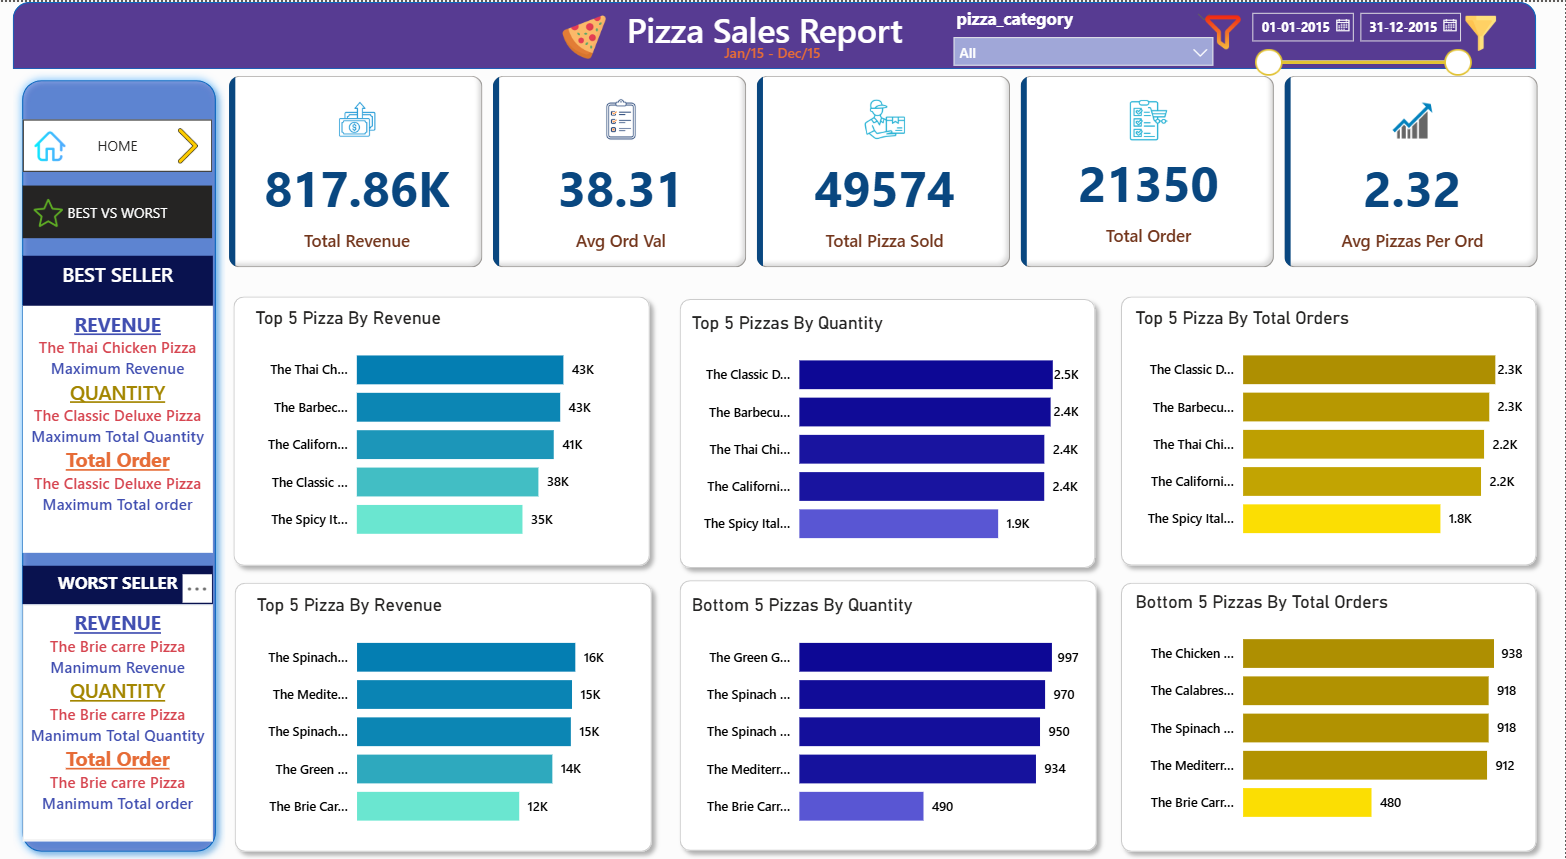

The page's visual inventory and layout, read from the dashboard file:
{"tool":"powerbi","page":{"name":"BEST VS WORST","canvas":[1500,820],"ordinal":1},"visuals":[{"type":"shape","box":[18,0,1455.1,64.4],"z":0},{"type":"textbox","box":[599.6,0,297.1,60],"z":1000},{"type":"image","box":[527.3,6.8,72.2,53.1],"z":2000},{"type":"textbox","box":[692.2,34.1,114.5,31.3],"z":3000},{"type":"shape","box":[17.7,65.4,203,754.9],"z":4000},{"type":"cardVisual","fields":{"Data":["pizza_sales.Total Revenue","pizza_sales.Avg Ord Val","pizza_sales.Total Pizza Sold","pizza_sales.Total Order","pizza_sales.Avg Pizzas Per Ord"]},"box":[219.4,65.4,1263.2,193.5],"z":5000},{"type":"textbox","box":[27.3,242.6,181.2,49.1],"z":6000},{"type":"textbox","box":[27.3,290.2,181.2,235.7],"z":7000},{"type":"textbox","box":[27.3,538.2,181.2,36.8],"z":8000},{"type":"textbox","box":[27.3,575,181.2,226.2],"z":9000},{"type":"shape","box":[219.4,272.5,415.6,275.3],"z":10000},{"type":"slicer","fields":{"Values":["pizza_sales.pizza_category"]},"box":[906.2,0,268.4,64],"z":11000},{"type":"slicer","fields":{"Values":["pizza_sales.order_date"]},"box":[1189.6,0,230.3,74.9],"z":12000},{"type":"barChart","title":"Top 5 Pizza By Revenue","fields":{"Category":["pizza_sales.pizza_name"],"Y":["pizza_sales.Total Revenue"]},"box":[245.3,291.6,354.3,237.1],"z":13000},{"type":"shape","box":[646.4,275,414.9,275],"z":14000},{"type":"shape","box":[1067.8,271.8,414.9,275],"z":15000},{"type":"shape","box":[220.3,545.1,416.5,275],"z":16000},{"type":"shape","box":[646.4,543.5,416.5,276.6],"z":17000},{"type":"shape","box":[1067.8,545.1,414.9,275],"z":18000},{"type":"barChart","title":"Top 5 Pizza By Revenue","fields":{"Category":["pizza_sales.pizza_name"],"Y":["pizza_sales.Total Revenue"]},"box":[246,566,353.8,236.4],"z":19000},{"type":"barChart","title":"Top 5 Pizzas By Quantity","fields":{"Category":["pizza_sales.pizza_name"],"Y":["Sum(pizza_sales.quantity)"]},"box":[660.9,295.9,379.5,236.4],"z":20000},{"type":"barChart","title":"Bottom 5 Pizzas By Quantity","fields":{"Category":["pizza_sales.pizza_name"],"Y":["Sum(pizza_sales.quantity)"]},"box":[660.9,566,379.5,236.4],"z":21000},{"type":"barChart","title":"Top 5 Pizza By Total Orders","fields":{"Category":["pizza_sales.pizza_name"],"Y":["pizza_sales.Total Order"]},"box":[1085.4,291.1,379.5,236.4],"z":22000},{"type":"barChart","title":"Bottom 5 Pizzas By Total Orders","fields":{"Category":["pizza_sales.pizza_name"],"Y":["pizza_sales.Total Order"]},"box":[1085.4,562.8,379.5,236.4],"z":23000},{"type":"pageNavigator","box":[27.3,175.8,181.2,50.4],"z":24000},{"type":"pageNavigator","box":[27.3,111.7,181.2,50.4],"z":24001},{"type":"image","box":[27.3,118.6,51.8,39.5],"z":24002},{"type":"image","box":[1392.6,8.2,55.9,43.6],"z":24003},{"type":"image","box":[1129.6,0,88.6,57.2],"z":24004},{"type":"image","box":[160.8,115.8,47.7,43.6],"z":24005},{"type":"image","box":[27.3,182.6,49.1,38.2],"z":24006}]}

Visuals, with their boxes in screenshot pixels (x1, y1, x2, y2), scaled from the page's 1500x820 canvas onto the 1566x859 screenshot:
shape: {"left": 19, "top": 0, "right": 1538, "bottom": 67}
textbox: {"left": 626, "top": 0, "right": 936, "bottom": 63}
image: {"left": 551, "top": 7, "right": 626, "bottom": 63}
textbox: {"left": 723, "top": 36, "right": 842, "bottom": 69}
shape: {"left": 18, "top": 69, "right": 230, "bottom": 858}
cardVisual - pizza_sales.Total Revenue x pizza_sales.Avg Ord Val: {"left": 229, "top": 69, "right": 1548, "bottom": 271}
textbox: {"left": 29, "top": 254, "right": 218, "bottom": 306}
textbox: {"left": 29, "top": 304, "right": 218, "bottom": 551}
textbox: {"left": 29, "top": 564, "right": 218, "bottom": 602}
textbox: {"left": 29, "top": 602, "right": 218, "bottom": 839}
shape: {"left": 229, "top": 285, "right": 663, "bottom": 574}
slicer - pizza_sales.pizza_category: {"left": 946, "top": 0, "right": 1226, "bottom": 67}
slicer - pizza_sales.order_date: {"left": 1242, "top": 0, "right": 1482, "bottom": 78}
"Top 5 Pizza By Revenue" barChart: {"left": 256, "top": 305, "right": 626, "bottom": 554}
shape: {"left": 675, "top": 288, "right": 1108, "bottom": 576}
shape: {"left": 1115, "top": 285, "right": 1548, "bottom": 573}
shape: {"left": 230, "top": 571, "right": 665, "bottom": 858}
shape: {"left": 675, "top": 569, "right": 1110, "bottom": 858}
shape: {"left": 1115, "top": 571, "right": 1548, "bottom": 858}
"Top 5 Pizza By Revenue" barChart: {"left": 257, "top": 593, "right": 626, "bottom": 841}
"Top 5 Pizzas By Quantity" barChart: {"left": 690, "top": 310, "right": 1086, "bottom": 558}
"Bottom 5 Pizzas By Quantity" barChart: {"left": 690, "top": 593, "right": 1086, "bottom": 841}
"Top 5 Pizza By Total Orders" barChart: {"left": 1133, "top": 305, "right": 1529, "bottom": 553}
"Bottom 5 Pizzas By Total Orders" barChart: {"left": 1133, "top": 590, "right": 1529, "bottom": 837}
pageNavigator: {"left": 29, "top": 184, "right": 218, "bottom": 237}
pageNavigator: {"left": 29, "top": 117, "right": 218, "bottom": 170}
image: {"left": 29, "top": 124, "right": 83, "bottom": 166}
image: {"left": 1454, "top": 9, "right": 1512, "bottom": 54}
image: {"left": 1179, "top": 0, "right": 1272, "bottom": 60}
image: {"left": 168, "top": 121, "right": 218, "bottom": 167}
image: {"left": 29, "top": 191, "right": 80, "bottom": 231}
